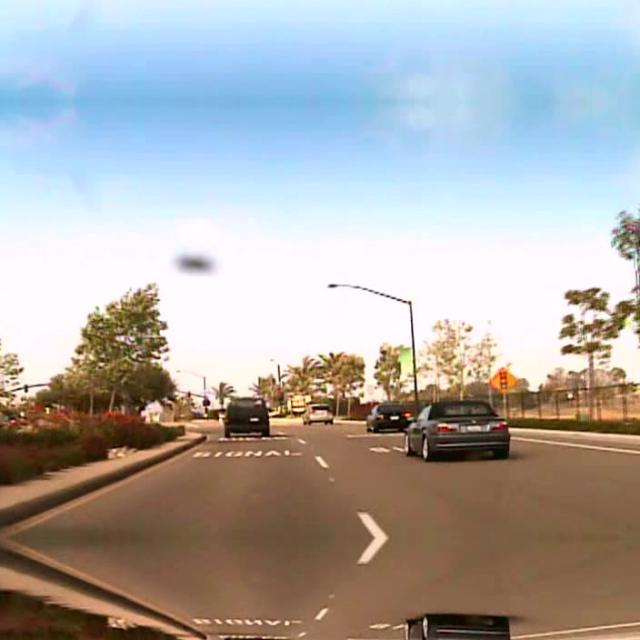signalAhead: (488, 366, 516, 392)
